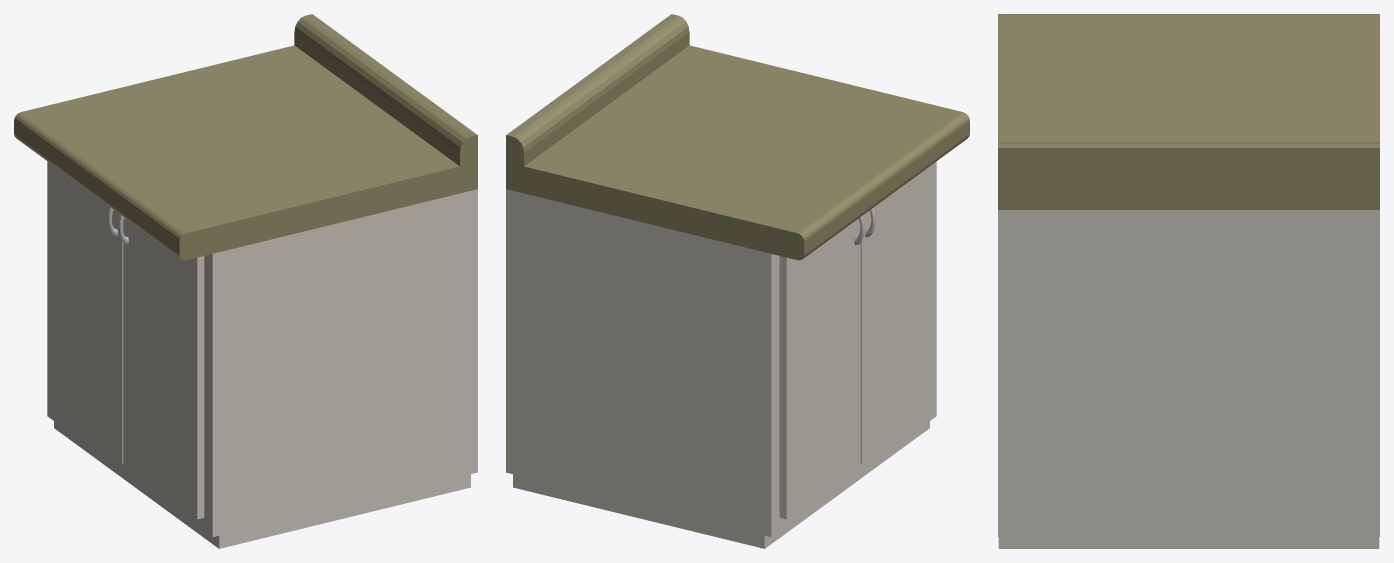
The model's file is BasicCounter.fbx.
3 views of the same model, side by side, from view 1: azimuth 30°, elevation 25°; view 2: azimuth 150°, elevation 25°; view 3: azimuth 270°, elevation 25° (orthographic). The views are drawn at different scales.
Visible parts, largest first — view 1: Counter; view 2: Counter; view 3: Counter.
Part boxes in pixels (<box>): Counter: <box>14,14,477,548</box>; Counter: <box>506,14,969,548</box>; Counter: <box>998,14,1379,548</box>.
Bounding box in the file's own units: 104 × 117 × 100.
